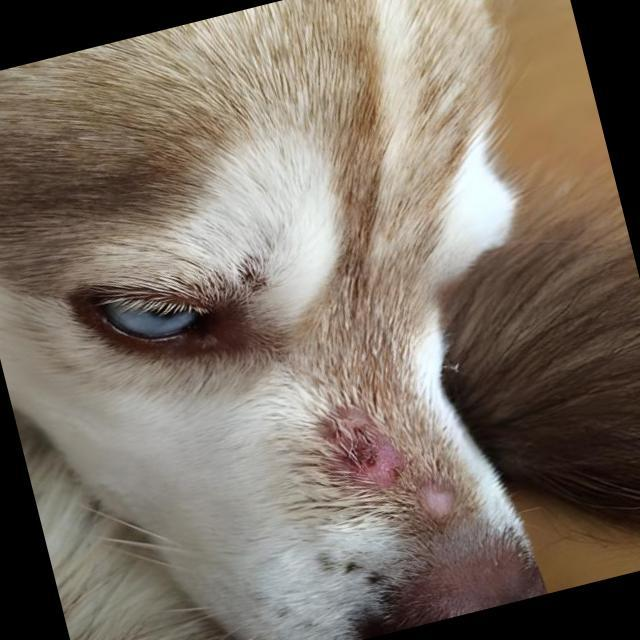allergic dermatitis: (329, 408, 424, 498)
